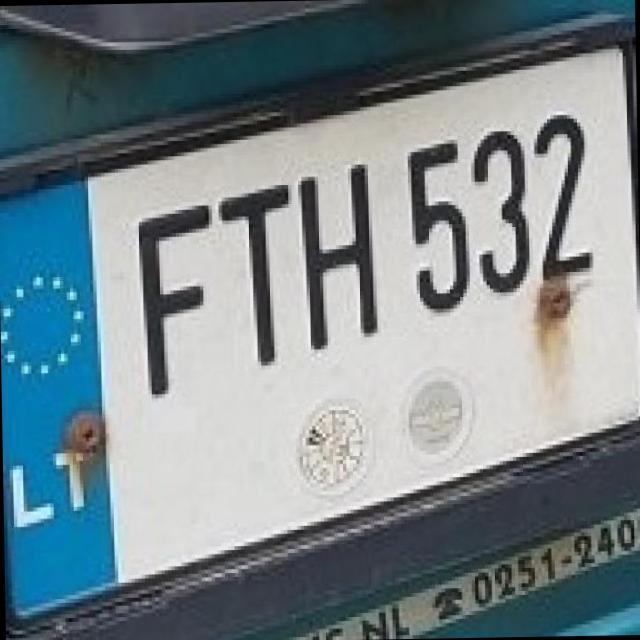0: (461, 564, 492, 604)
1: (530, 540, 555, 579)
2: (526, 102, 600, 284)
3: (460, 116, 533, 300)
5: (397, 128, 473, 316), (507, 548, 535, 587)
9: (484, 556, 515, 599)
F: (118, 193, 222, 398)
H: (284, 148, 384, 353)
T: (208, 172, 300, 370)
